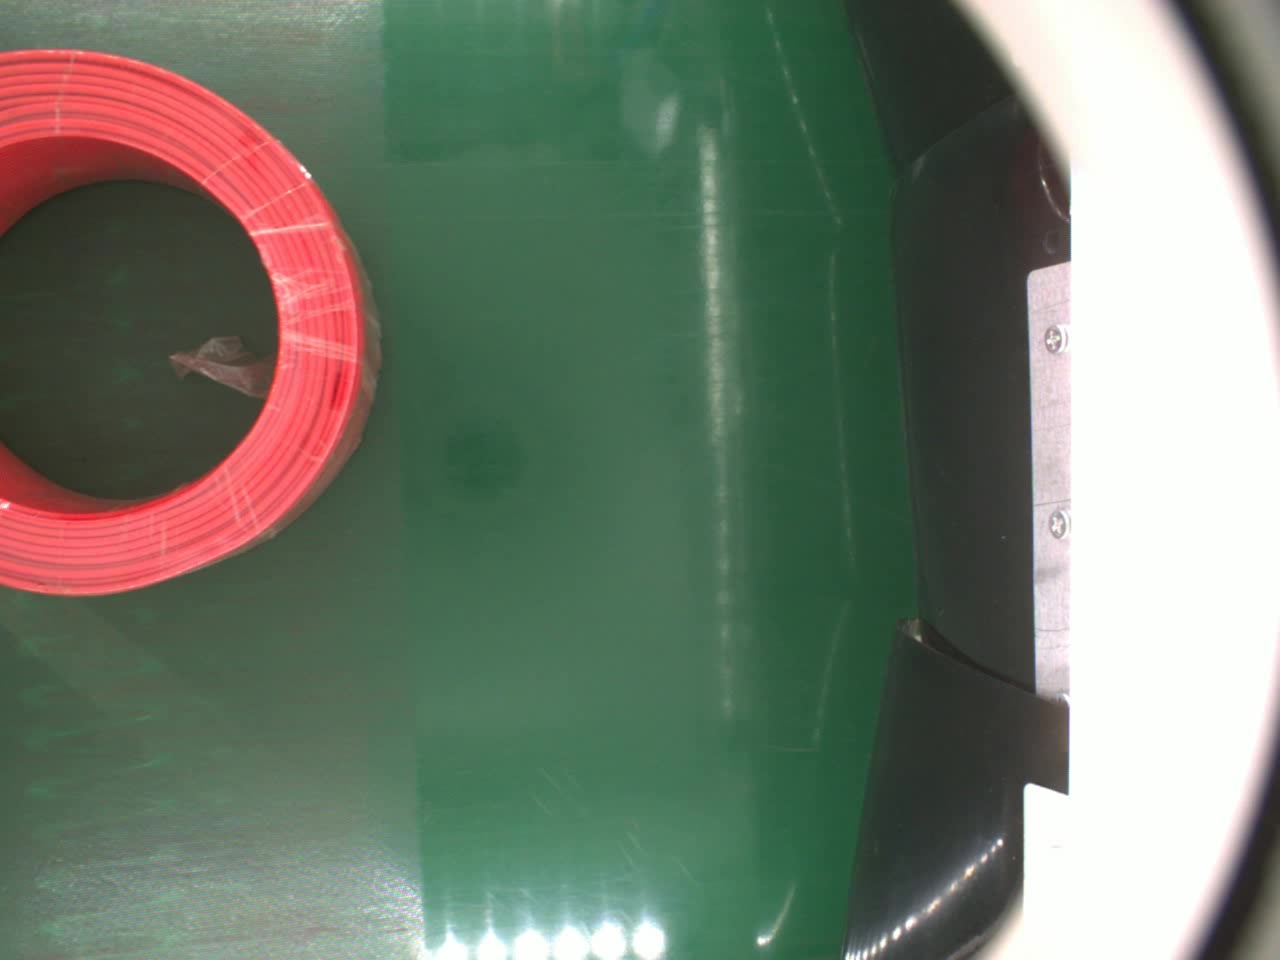red: (0, 47, 384, 601)
